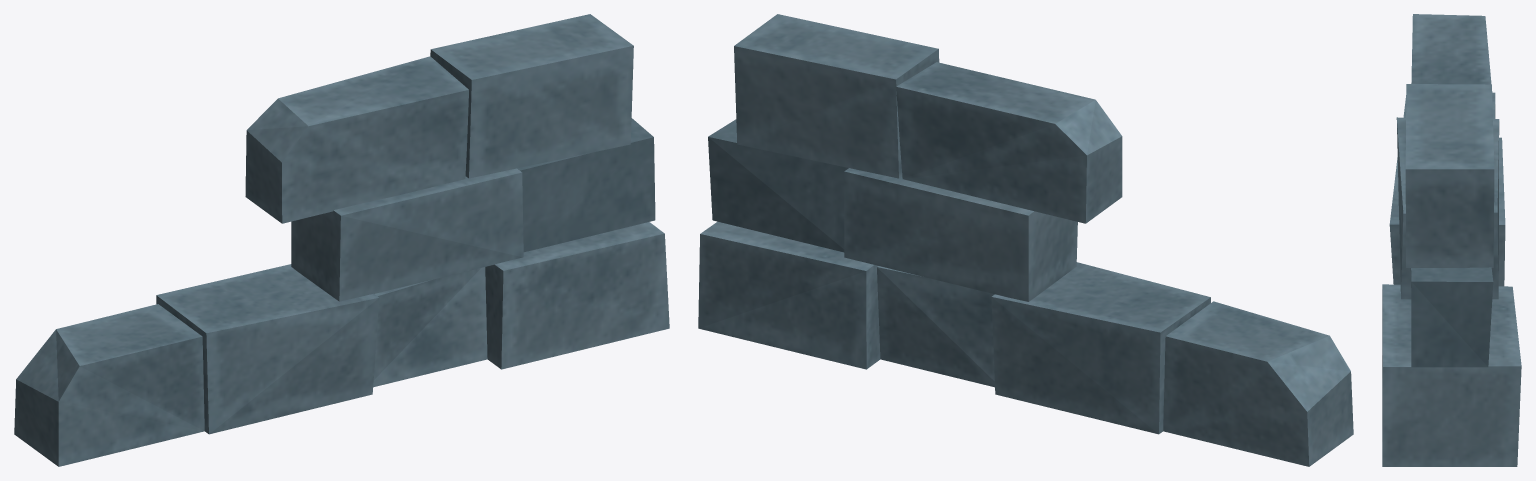
The model's file is Wall.fbx.
3 views of the same model, side by side, from view 1: azimuth 30°, elevation 25°; view 2: azimuth 150°, elevation 25°; view 3: azimuth 270°, elevation 25° (orthographic).
Parts seen in each view (by area): view 1: Bottom; view 2: Bottom; view 3: Bottom.
Part boxes in pixels (x1,y1,x2,y2): Bottom: (14,14,669,466); Bottom: (698,14,1353,466); Bottom: (1382,14,1521,466).
Bounding box in the file's own units: 2.01 × 0.9086 × 0.3947.
